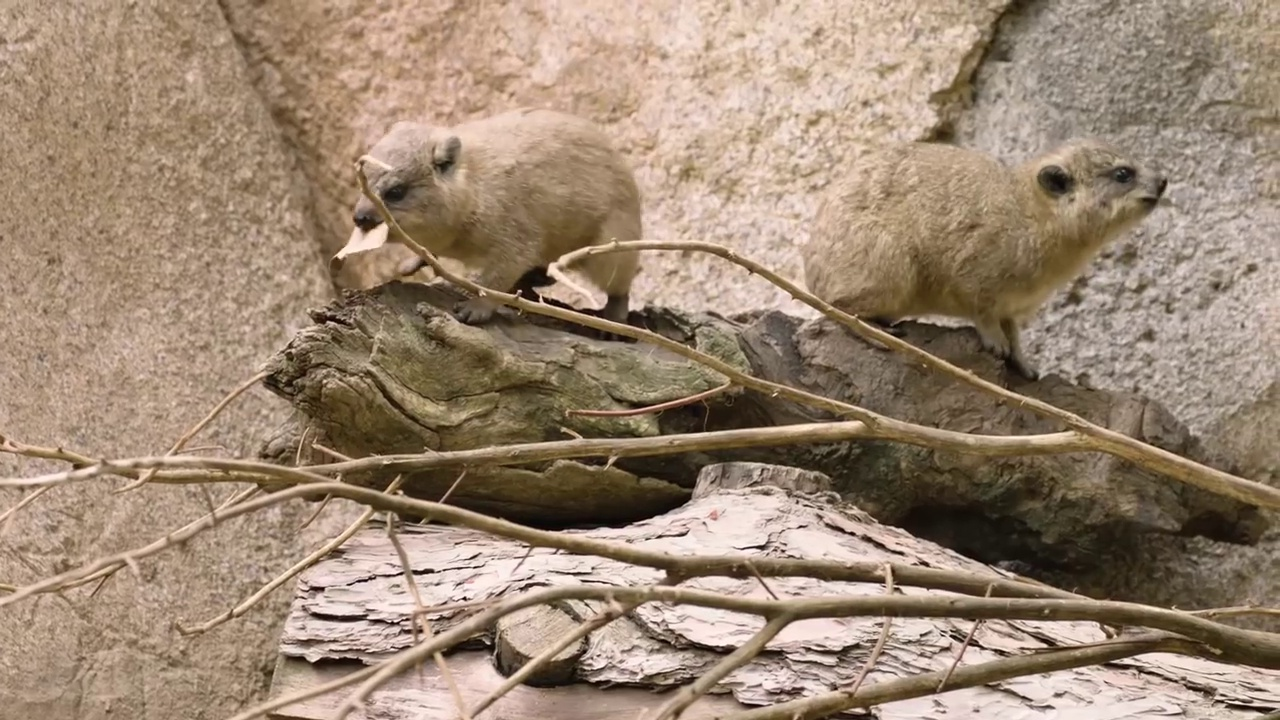Rock Hyrex: (802, 137, 1177, 384), (345, 98, 643, 329)
